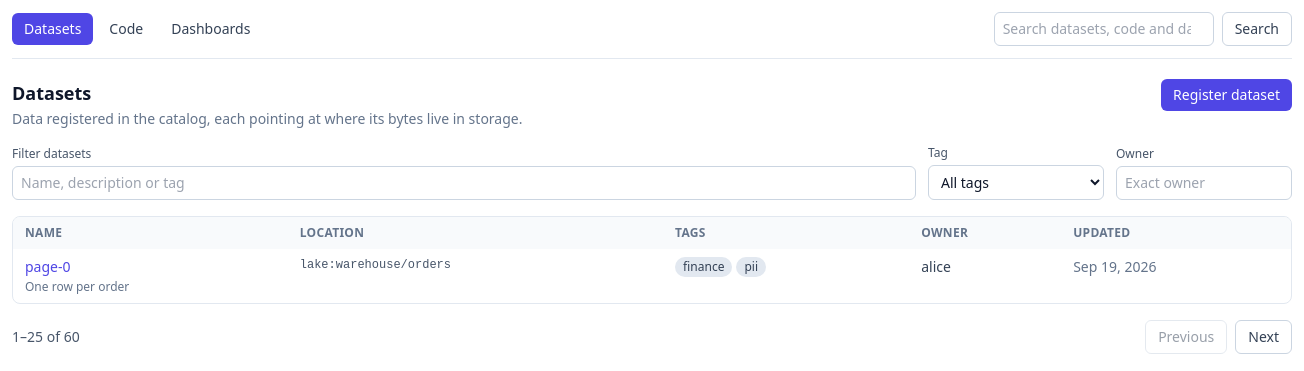
Test: dataset list › pages when there are more results than a page
expect the text "1–25 of 60" is shown: met, box [12,327,80,347]
Click the button "Next": [1264, 337] box [1235,320,1292,354]
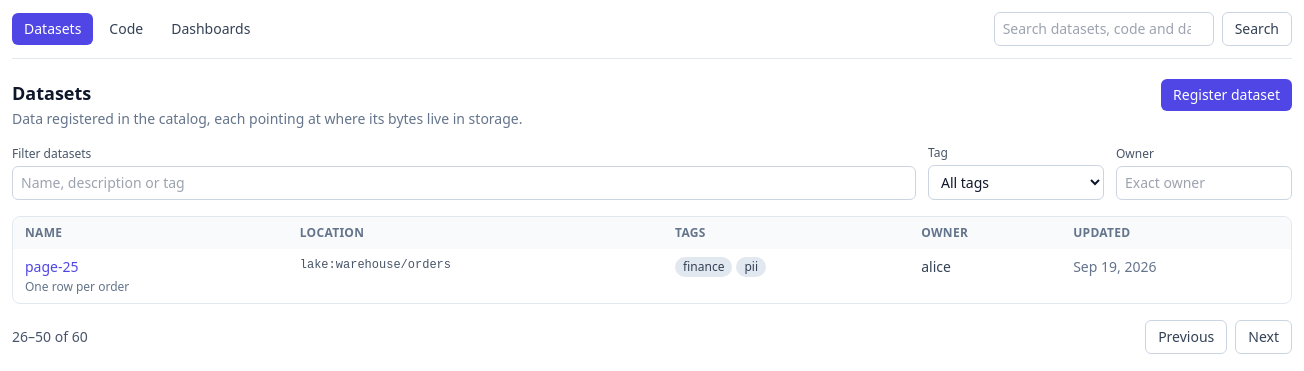
expect the text "26–50 of 60" is shown: met, box [12,327,88,347]
